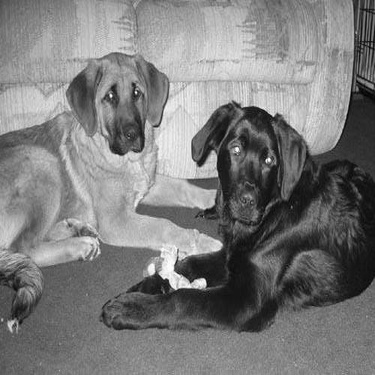dog: (1, 50, 230, 342), (109, 91, 367, 337)
